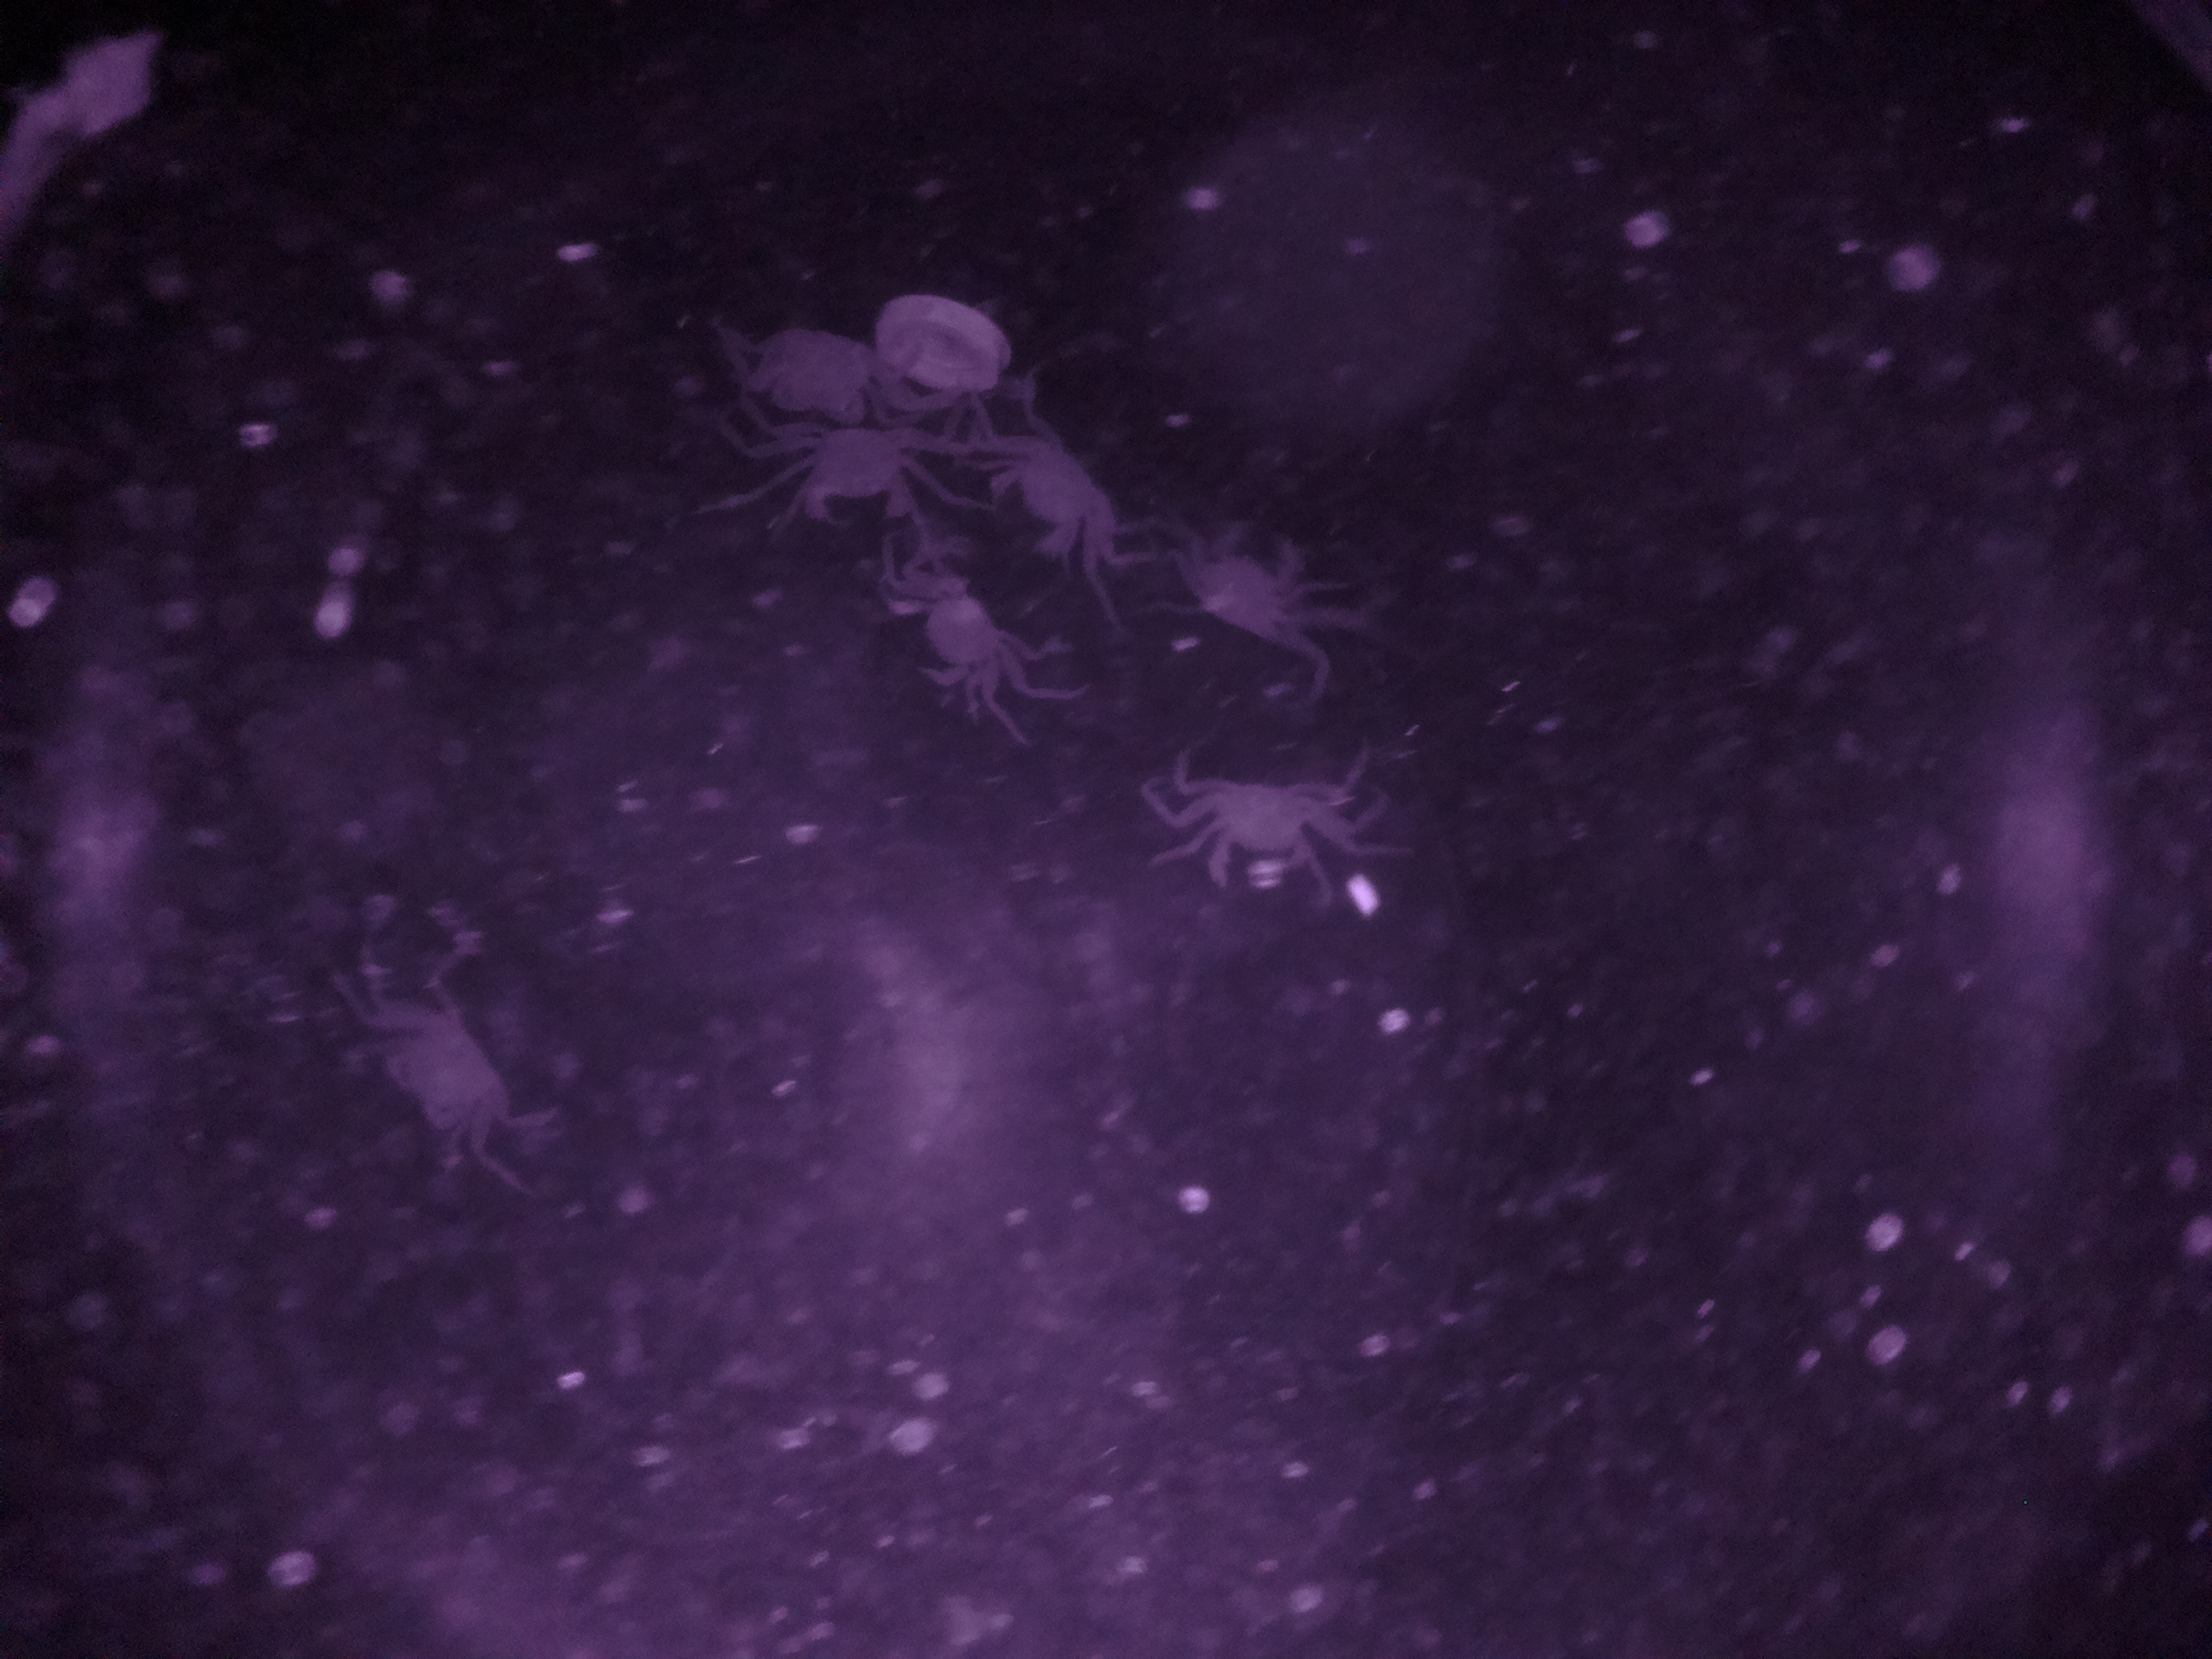Crab: (1134, 491, 1369, 683), (878, 519, 1052, 742), (1158, 746, 1369, 889)
